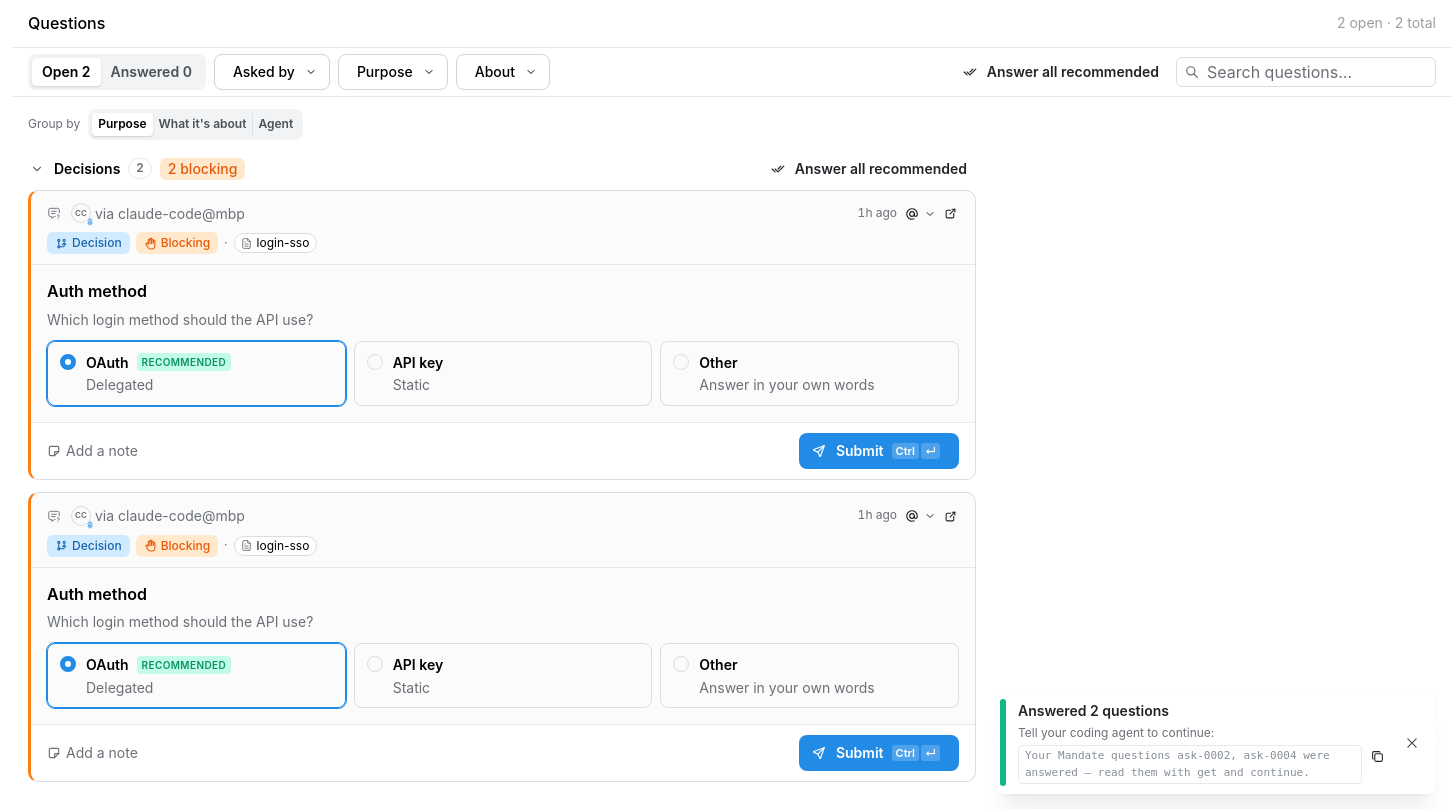
Test: questions list page › answering in place collapses the card to the answered summary with the continue line
The width and height of the screenshot is (1452, 809).
Expected: the 1st button with test id "q-submit" is enabled, [799,433,959,469]
Click the 1st radio button labelled "API key" at (418, 362), box [354,341,652,406]
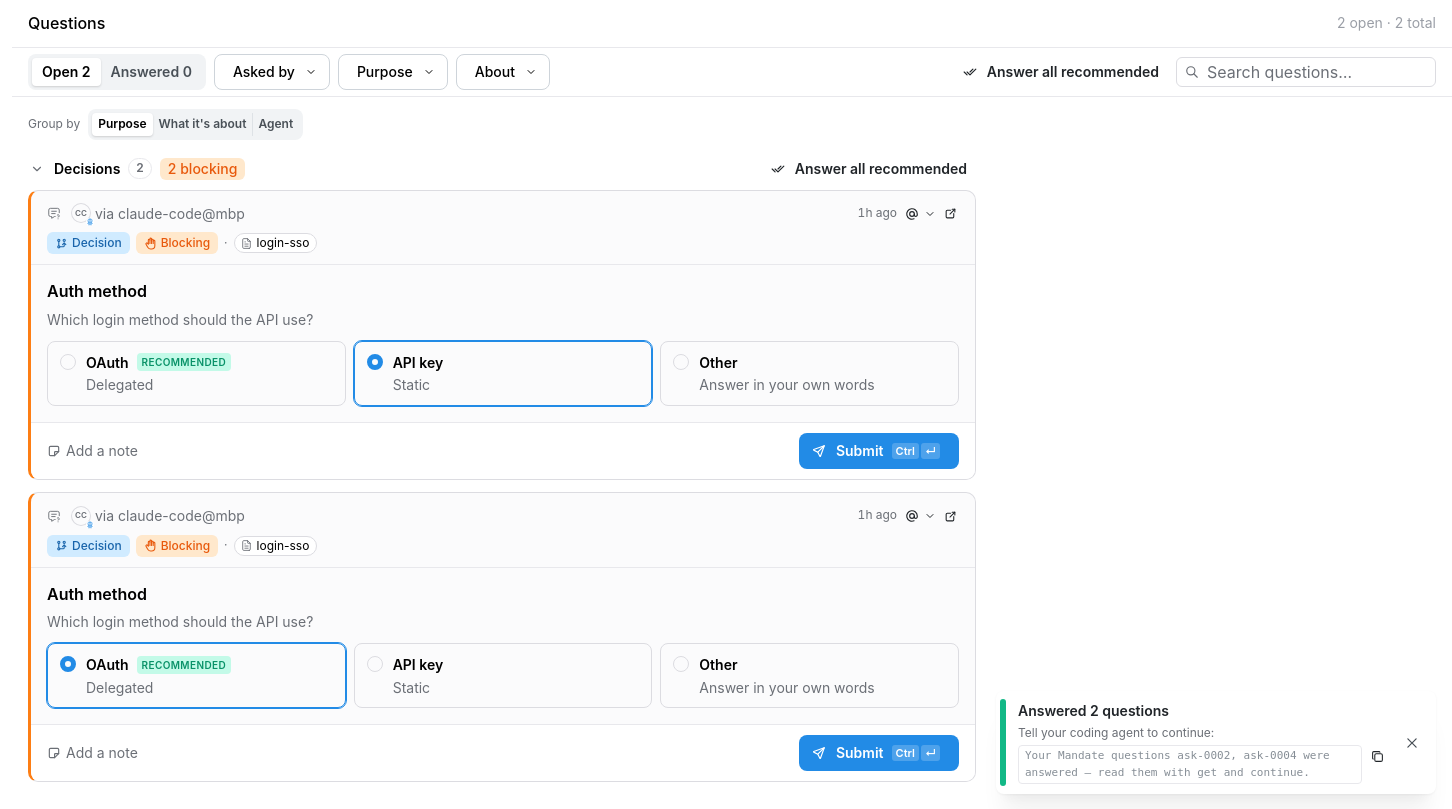
Click the 1st button with test id "q-submit" at (879, 451), box [799,433,959,469]
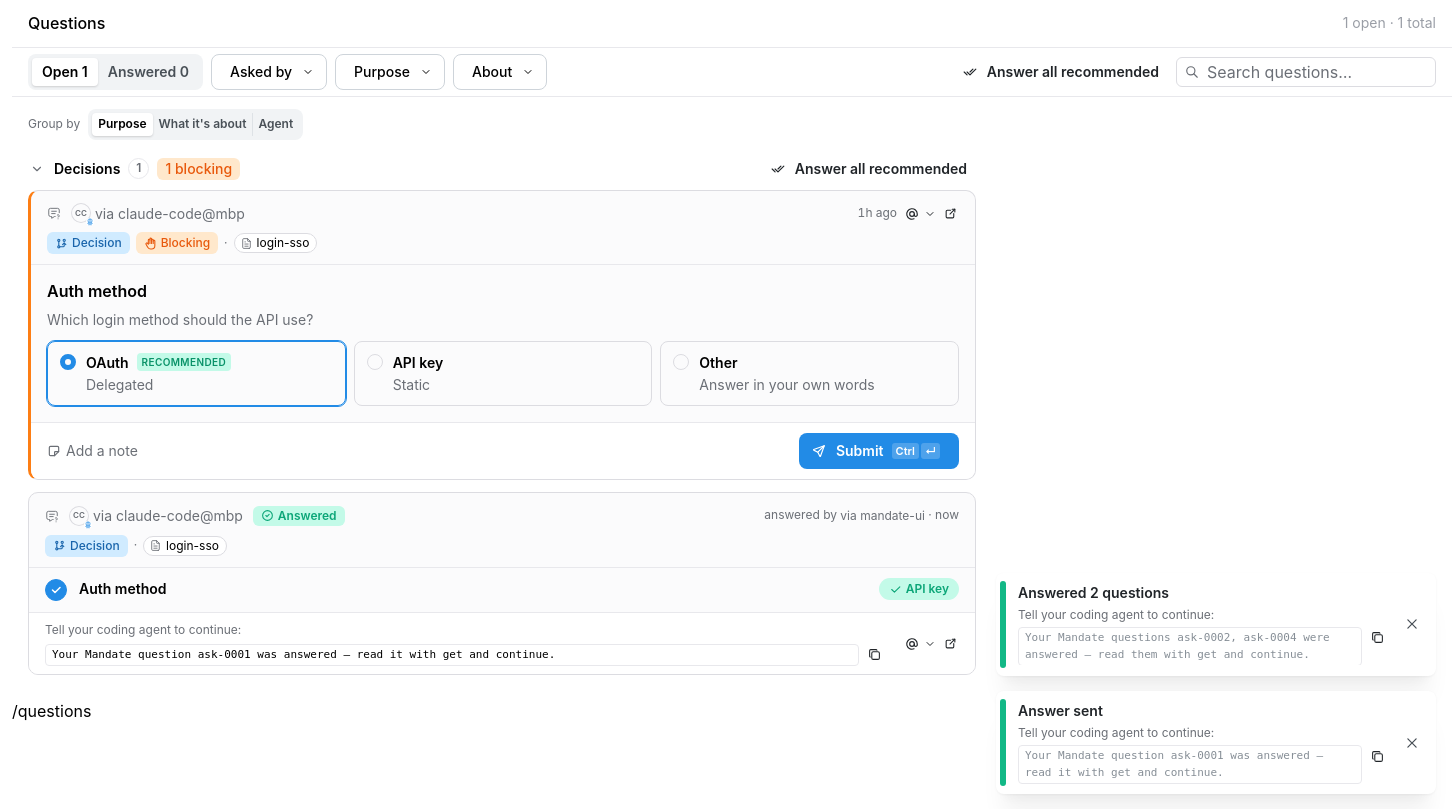
Expected: the element with test id "q-answer-pill" reads "API key", [906,581,949,596]
Expected: the element with test id "q-continue" that starts with "Tell your coding agent to continue:" is shown, [45,621,885,666]
Expected: the list item with test id "question-ask-0001" is gone
